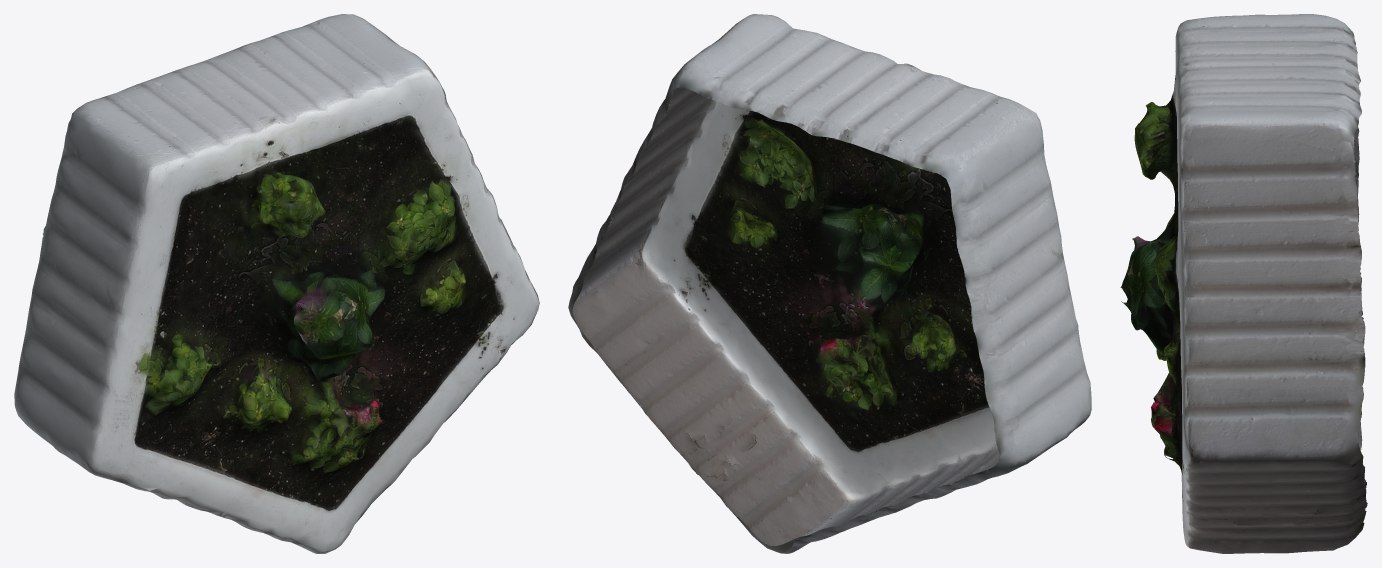
3 renders of one model, left to right at view 1: azimuth 30°, elevation 25°; view 2: azimuth 150°, elevation 25°; view 3: azimuth 270°, elevation 25°, orthographic.
Parts seen in each view (by area): view 1: Object_2; view 2: Object_2; view 3: Object_2.
Part boxes in pixels (left/top/right/bottom): Object_2: left=14, top=14, right=539, bottom=553; Object_2: left=568, top=14, right=1091, bottom=553; Object_2: left=1120, top=14, right=1367, bottom=553.
Bounding box in the file's own units: 1 × 0.98 × 0.4594.
1 material, 1 textured.
